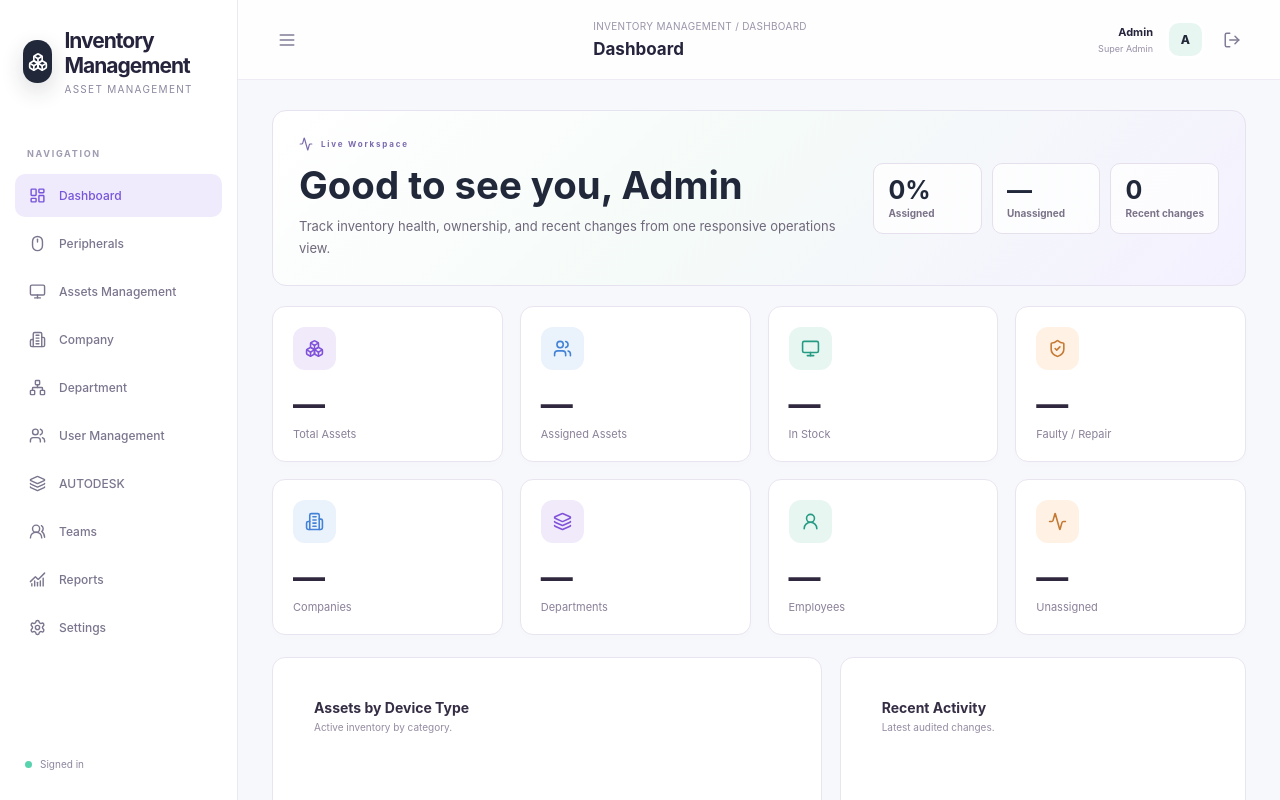
Test: renders the Peripherals section and its icons
The width and height of the screenshot is (1280, 800).
Click the button "Peripherals": (118, 244) left=15, top=222, right=222, bottom=265
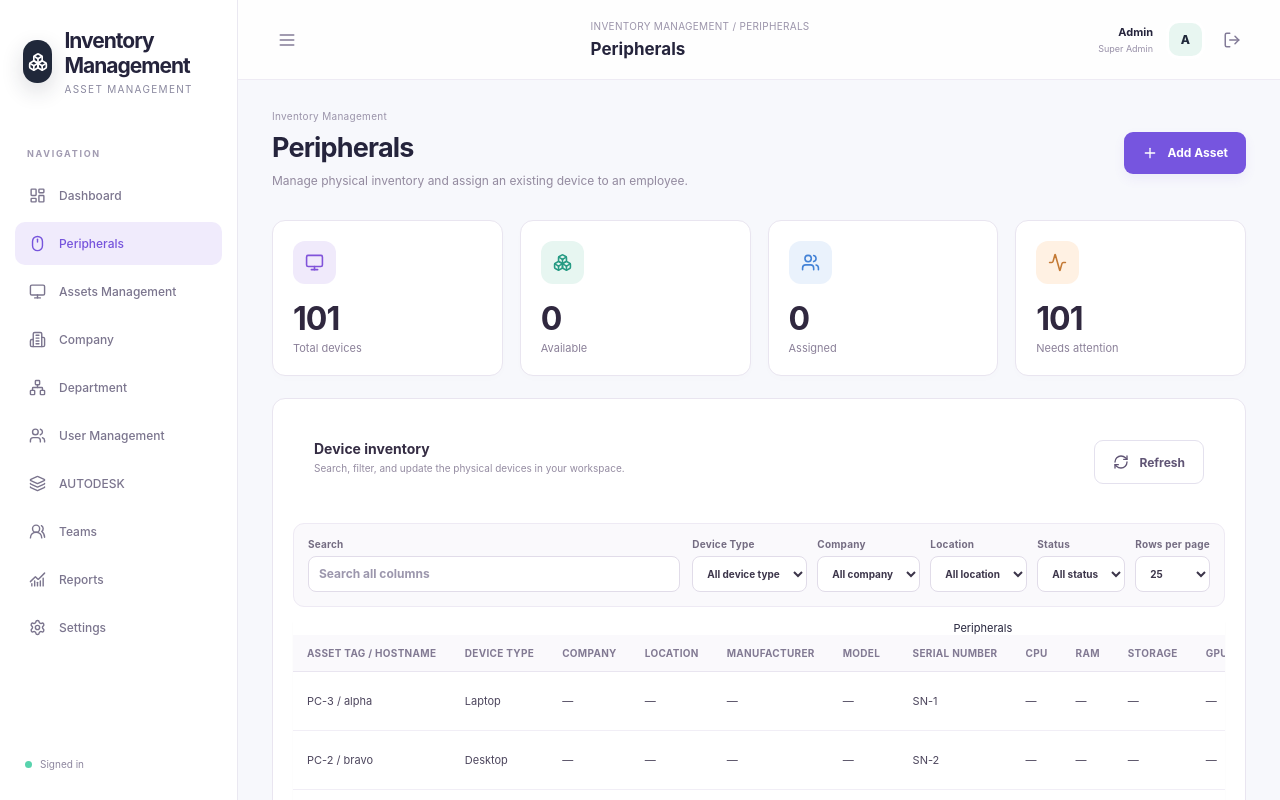
Now the heading "Peripherals" in the row of "Super Admin" is shown, box left=591, top=39, right=685, bottom=59
